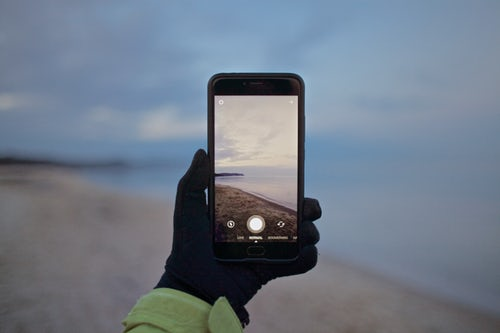phone: (203, 69, 314, 272)
